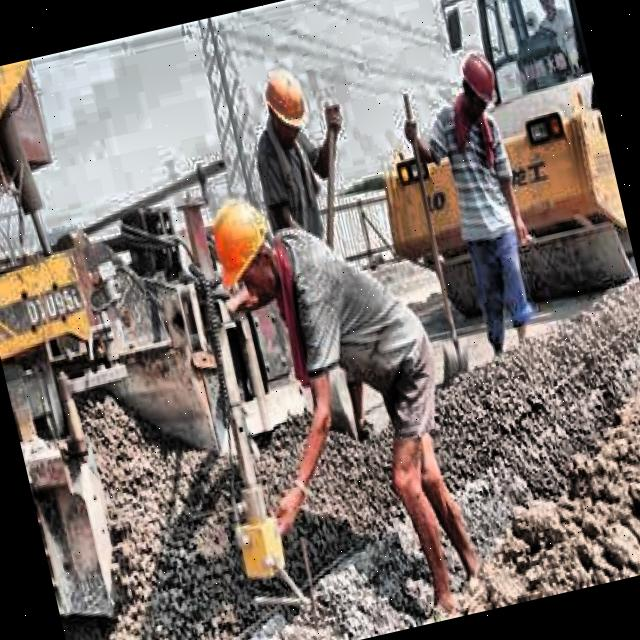helmet: (192, 178, 294, 324), (0, 62, 72, 246), (254, 57, 318, 152), (452, 43, 502, 115)
